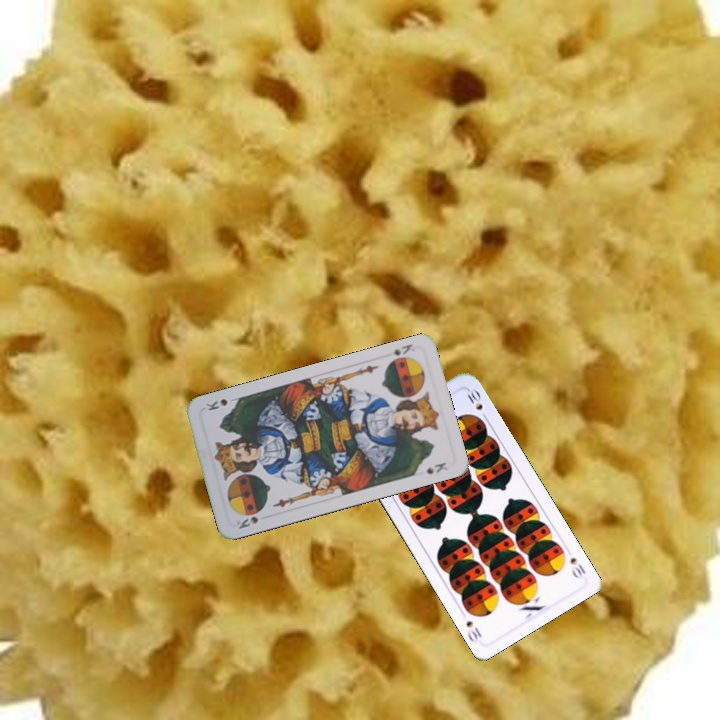S10: (566, 553, 588, 581)
SK: (232, 507, 265, 531), (389, 340, 417, 358)
